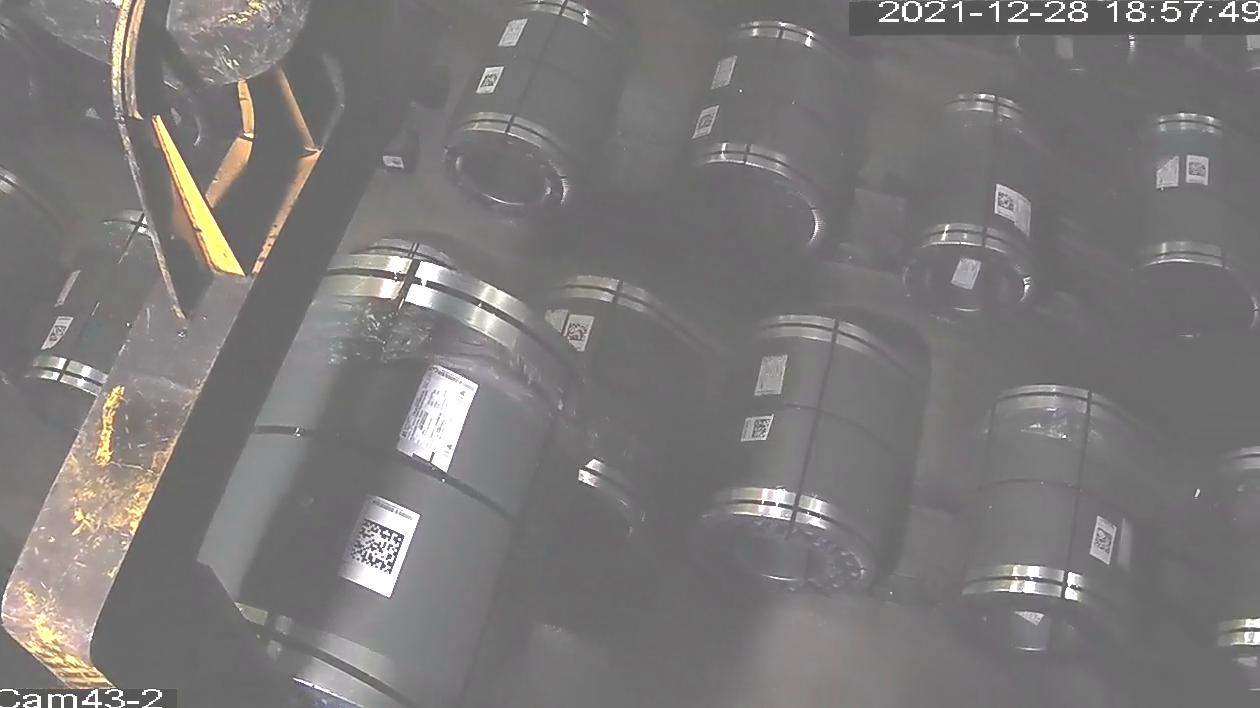data matrix: (345, 514, 410, 579), (1089, 524, 1118, 558), (563, 319, 593, 345), (749, 417, 776, 444), (693, 111, 718, 134), (996, 191, 1018, 214), (1187, 159, 1209, 181), (479, 71, 502, 92)
